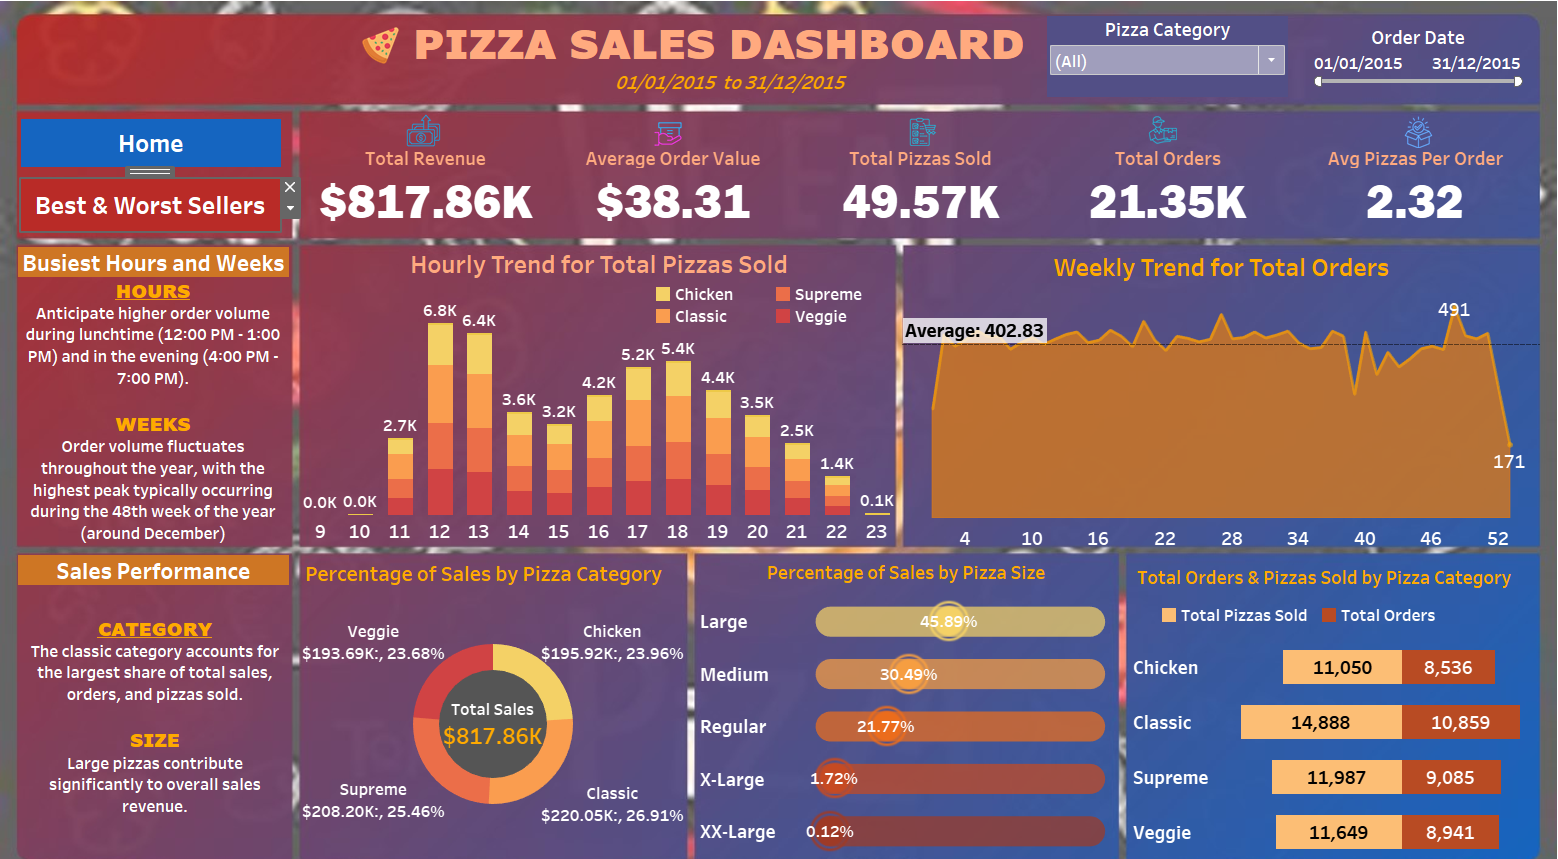

The page's visual inventory and layout, read from the dashboard file:
{"tool":"tableau","page":{"name":"Home","canvas":[1600,900],"ordinal":1},"visuals":[{"type":"image","param":"C:/Users/yusuf/Downloads/Pizza.jpg","box":[8,8,1584,884]},{"type":"text","box":[430,25,636,58]},{"type":"filter","title":"Hourly Trend for Total Pizzas Sold","param":"[federated.1fpdtul0oztc8p1eyervt0r05s4z].[none:pizza_category:nk]","box":[1068,27,241,81]},{"type":"filter","title":"Hourly Trend for Total Pizzas Sold","param":"[federated.1fpdtul0oztc8p1eyervt0r05s4z].[none:order_date:qk]","box":[1330,35,218,69]},{"type":"image","param":"C:/Users/yusuf/Downloads/Pizza Sales Images/pizza-slice.png","box":[370,37,63,38]},{"type":"worksheet","title":"Date Range","mark":"Automatic","box":[554,79,395,28]},{"type":"image","param":"C:/Users/yusuf/Downloads/Pizza Sales Images/profit-growth.png","box":[425,122,41,38]},{"type":"image","param":"C:/Users/yusuf/Downloads/Pizza Sales Images/delivery-man.png","box":[1168,126,32,29]},{"type":"image","param":"C:/Users/yusuf/Downloads/Pizza Sales Images/order (1).png","box":[1423,127,32,33]},{"type":"image","param":"C:/Users/yusuf/Downloads/Pizza Sales Images/order-delivery.png","box":[929,128,29,29]},{"type":"image","param":"C:/Users/yusuf/Downloads/Pizza Sales Images/shipping-box.png","box":[672,129,34,31]},{"type":"dashboard-object","box":[42,130,260,48]},{"type":"worksheet","title":"KPI Banner","mark":"Automatic","box":[323,159,1237,87]},{"type":"dashboard-object","box":[42,190,259,52]},{"type":"worksheet","title":"Hourly Trend for Total Pizzas Sold","mark":"Bar","rows":["Calculation_1866179114897395715","Calculation_1866179114897395715"],"cols":["order_time"],"box":[322,254,596,301]},{"type":"worksheet","title":"Weekly Trend for Total Orders","mark":"Area","rows":["Calculation_1866179114897002497","Calculation_1866179114897002497"],"cols":["order_date"],"box":[923,257,638,299]},{"type":"text","box":[39,258,271,30]},{"type":"text","box":[36,290,276,268]},{"type":"legend","title":"Hourly Trend for Total Pizzas Sold","param":"[federated.1fpdtul0oztc8p1eyervt0r05s4z].[none:pizza_category:nk]","box":[673,294,243,45]},{"type":"text","box":[39,566,271,30]},{"type":"worksheet","title":"Percentage of Sales by Pizza Category","mark":"Pie","rows":["Calculation_1866179114932076558","Calculation_1866179114932129809"],"box":[322,566,384,295]},{"type":"worksheet","title":"Percentage of Sales by Pizza Size","mark":"Line","rows":["pizza_size"],"box":[715,566,424,302]},{"type":"text","box":[1154,575,404,26]},{"type":"text","box":[38,595,276,268]},{"type":"legend","title":"Total Orders & Pizzas Sold by Pizza Category","param":"[federated.1fpdtul0oztc8p1eyervt0r05s4z].[:Measure Names]","box":[1179,615,369,28]},{"type":"worksheet","title":"Total Orders & Pizzas Sold by Pizza Category","mark":"Automatic","rows":["pizza_category"],"box":[1148,650,407,220]}]}

Visuals, with their boxes in screenshot pixels (x1, y1, x2, y2), scaled from the page's 1600x900 canvas onto the 1558x859 screenshot:
image: crop(8, 8, 1550, 851)
text: crop(419, 24, 1038, 79)
"Hourly Trend for Total Pizzas Sold" filter: crop(1040, 26, 1275, 103)
"Hourly Trend for Total Pizzas Sold" filter: crop(1295, 33, 1507, 99)
image: crop(360, 35, 422, 72)
"Date Range" worksheet: crop(539, 75, 924, 102)
image: crop(414, 116, 454, 153)
image: crop(1137, 120, 1168, 148)
image: crop(1386, 121, 1417, 153)
image: crop(905, 122, 933, 150)
image: crop(654, 123, 687, 153)
dashboard-object: crop(41, 124, 294, 170)
"KPI Banner" worksheet: crop(315, 152, 1519, 235)
dashboard-object: crop(41, 181, 293, 231)
"Hourly Trend for Total Pizzas Sold" worksheet (Bar marks): crop(314, 242, 894, 530)
"Weekly Trend for Total Orders" worksheet (Area marks): crop(899, 245, 1520, 531)
text: crop(38, 246, 302, 275)
text: crop(35, 277, 304, 533)
"Hourly Trend for Total Pizzas Sold" legend: crop(655, 281, 892, 324)
text: crop(38, 540, 302, 569)
"Percentage of Sales by Pizza Category" worksheet (Pie marks): crop(314, 540, 687, 822)
"Percentage of Sales by Pizza Size" worksheet (Line marks): crop(696, 540, 1109, 828)
text: crop(1124, 549, 1517, 574)
text: crop(37, 568, 306, 824)
"Total Orders & Pizzas Sold by Pizza Category" legend: crop(1148, 587, 1507, 614)
"Total Orders & Pizzas Sold by Pizza Category" worksheet: crop(1118, 620, 1514, 830)
